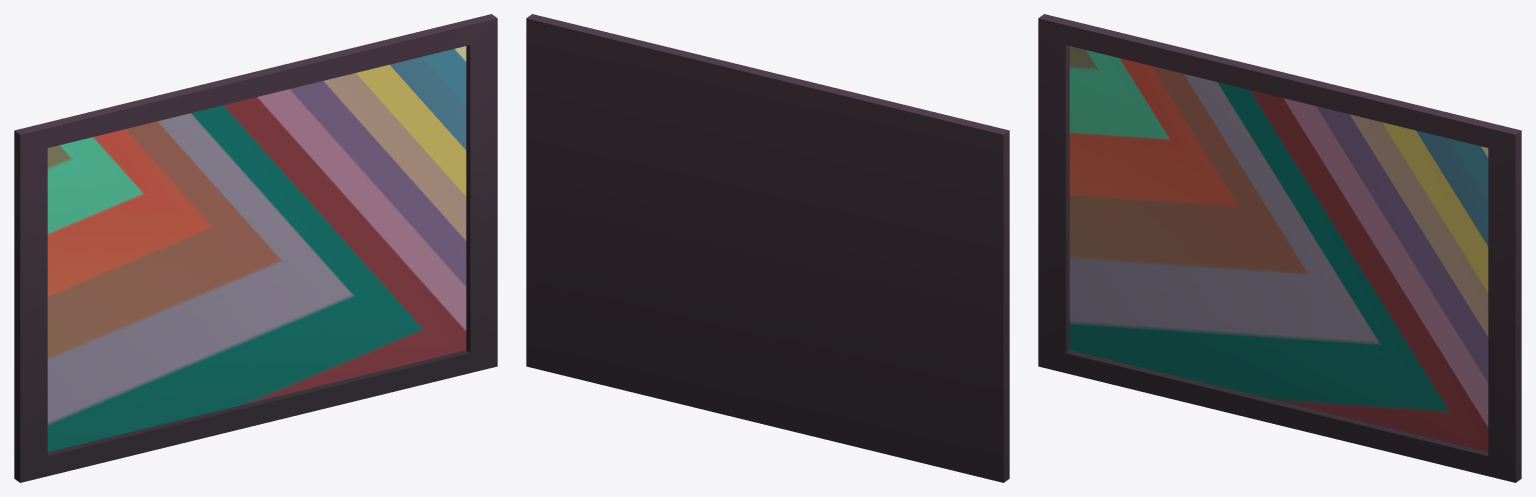
The model's file is Painting.fbx.
3 views of the same model, side by side, from view 1: azimuth 30°, elevation 25°; view 2: azimuth 150°, elevation 25°; view 3: azimuth 330°, elevation 25° (orthographic).
Visible parts, largest first — view 1: Painting; view 2: Painting; view 3: Painting.
Boxes of the visible parts, x1,y1,x2,y2 form: Painting: (14,14,497,482); Painting: (526,14,1009,482); Painting: (1038,14,1521,482).
Bounding box in the file's own units: 45.8 × 31.9 × 1.
